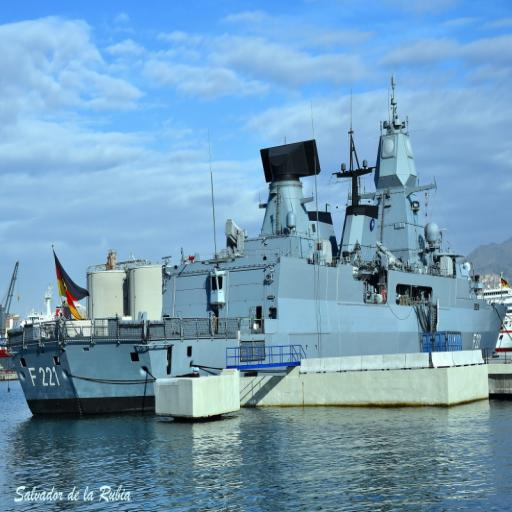Fragata: (4, 89, 504, 431)
